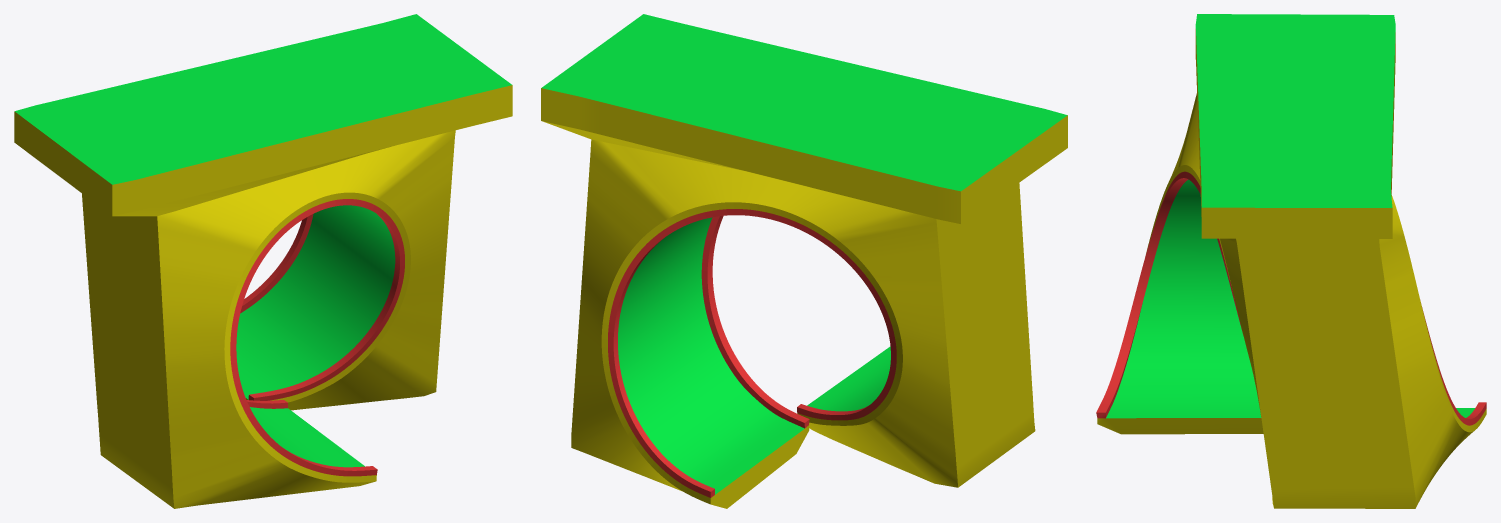
The model's file is loop.fbx.
The picture shows the model from 3 angles, left to right: view 1: azimuth 30°, elevation 25°; view 2: azimuth 150°, elevation 25°; view 3: azimuth 270°, elevation 25°; orthographic projection. The views are drawn at different scales.
Parts seen in each view (by area): view 1: loop_2:pHelix1; view 2: loop_2:pHelix1; view 3: loop_2:pHelix1.
Boxes of the visible parts, <box> form: loop_2:pHelix1: <box>14,14,512,508</box>; loop_2:pHelix1: <box>541,14,1067,508</box>; loop_2:pHelix1: <box>1096,14,1486,508</box>.
Bounding box in the file's own units: 3686 × 2836 × 3134.
